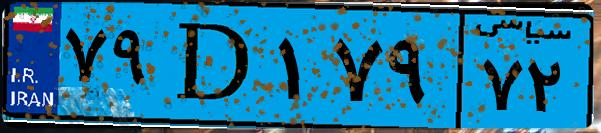1: (270, 28, 330, 110)
2: (525, 38, 570, 115)
7: (330, 28, 385, 110), (57, 26, 110, 100), (475, 38, 525, 113)
9: (385, 28, 445, 110), (110, 28, 158, 98)
D: (158, 12, 270, 120)
